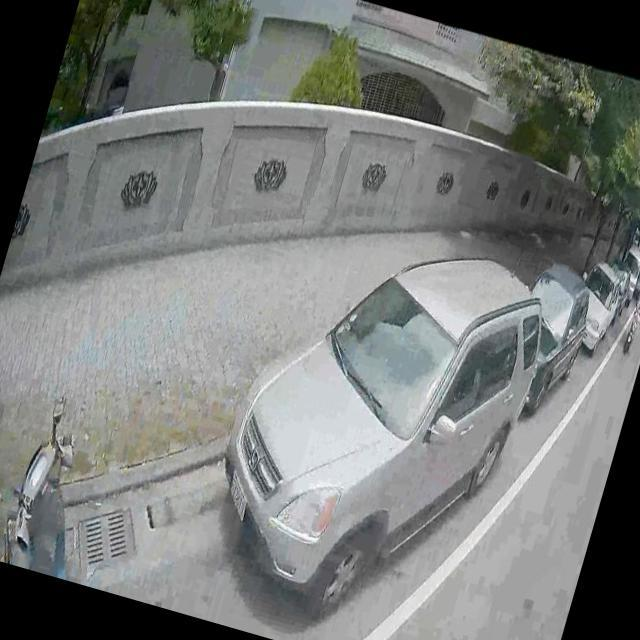person: (633, 292, 640, 318)
